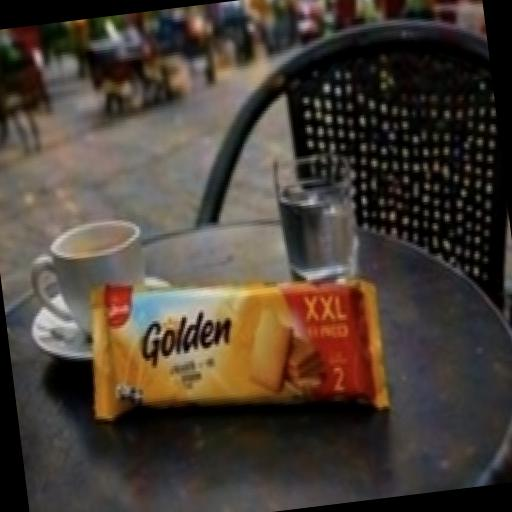golden: (66, 196, 445, 474)
